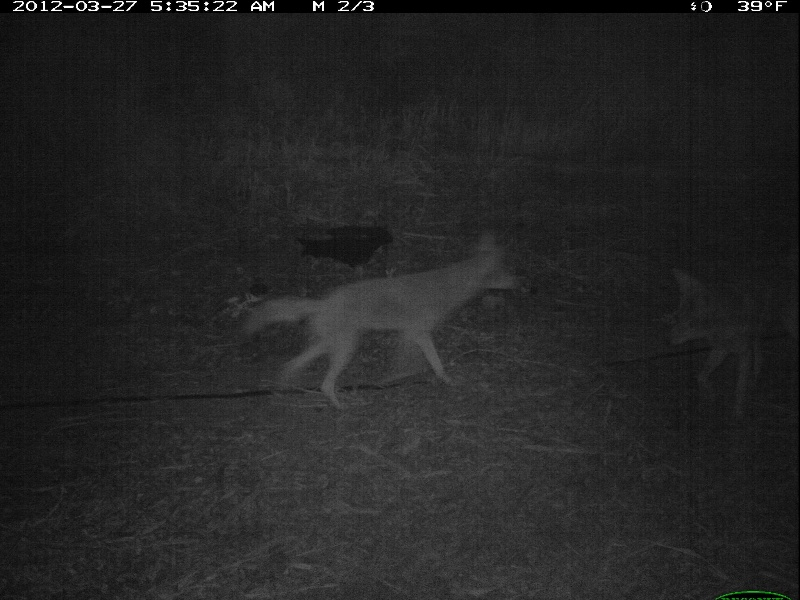coyote: (240, 230, 522, 418), (665, 262, 781, 418)
